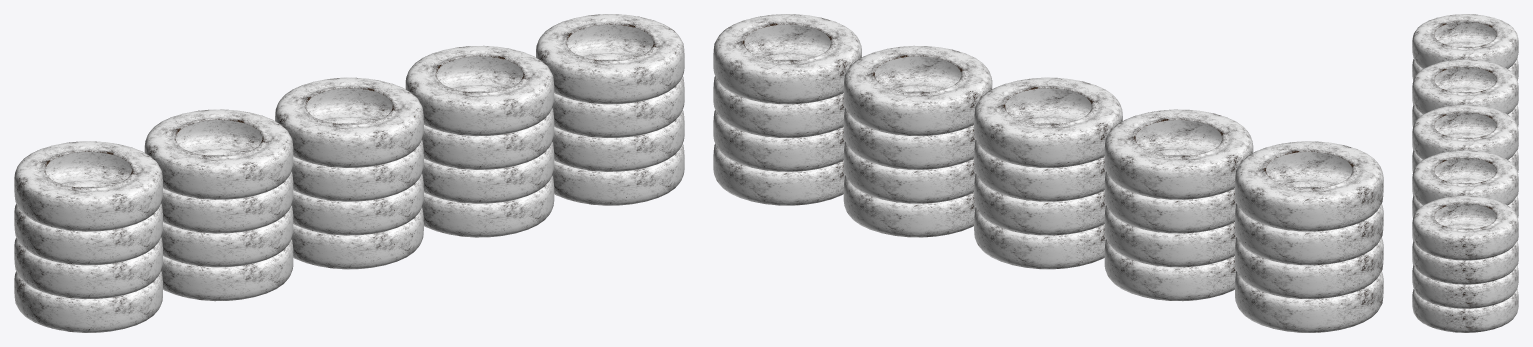
Rendered from TireBarrier_3.fbx.
The picture shows the model from 3 angles, left to right: view 1: azimuth 30°, elevation 25°; view 2: azimuth 150°, elevation 25°; view 3: azimuth 270°, elevation 25°; orthographic projection. The views are drawn at different scales.
Parts seen in each view (by area): view 1: TireBarrier_3; view 2: TireBarrier_3; view 3: TireBarrier_3.
Boxes of the visible parts, x1=… form: TireBarrier_3: x1=14, y1=14, x2=684, y2=332; TireBarrier_3: x1=713, y1=14, x2=1383, y2=332; TireBarrier_3: x1=1412, y1=14, x2=1518, y2=332.
Size of the model in its own units: 2.9 by 0.5777 by 0.576.
